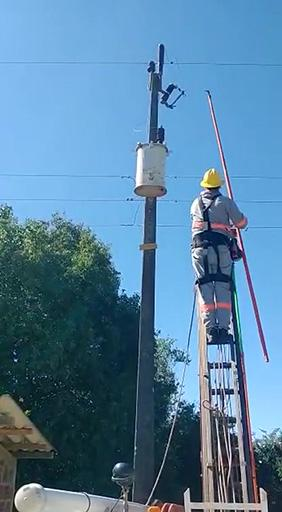Vara_Manobra: (204, 90, 270, 364)
